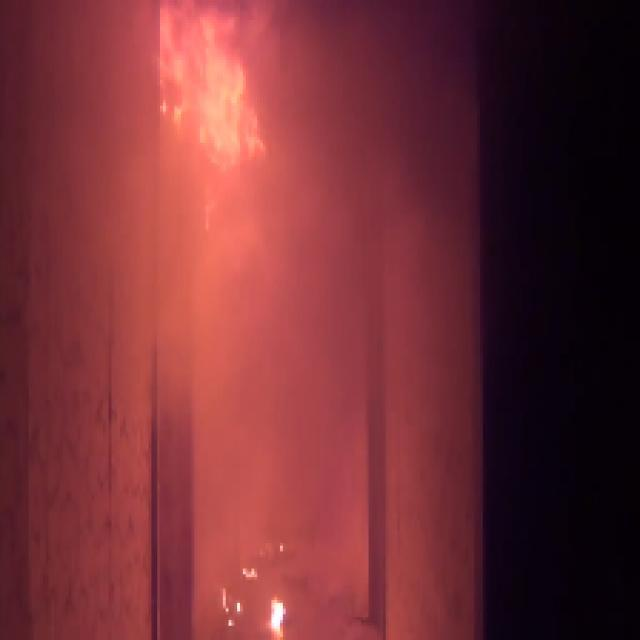Fire: (148, 6, 274, 166), (260, 592, 286, 634)
Smoke: (228, 191, 354, 503), (297, 20, 454, 172)
